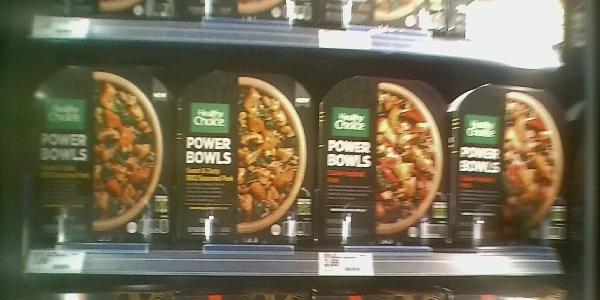pizza: (30, 62, 176, 245), (179, 72, 319, 244), (322, 77, 452, 245), (453, 86, 573, 252)
